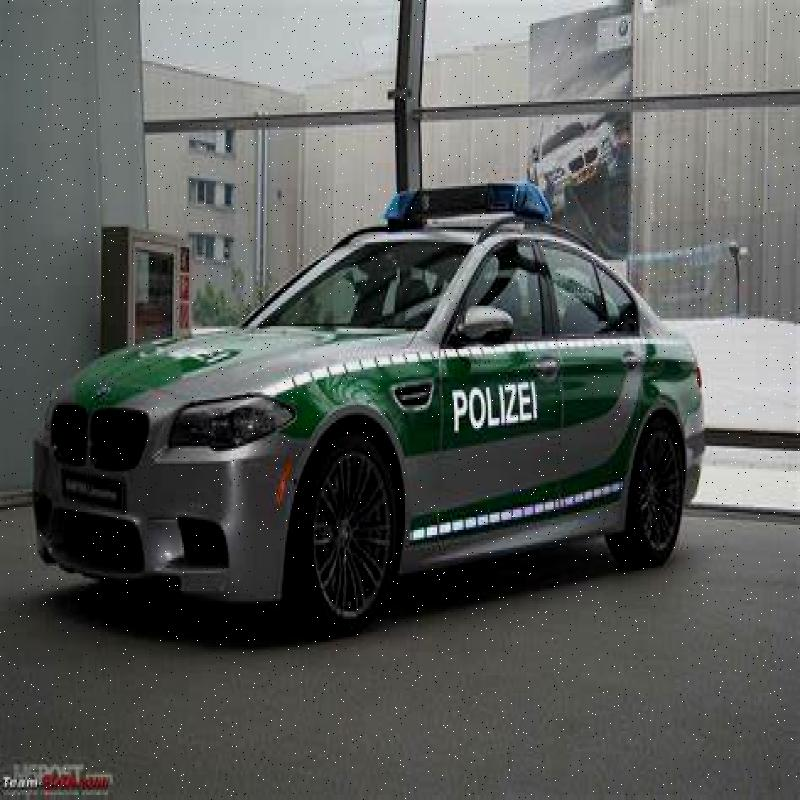AmbulanceSiren: (380, 169, 552, 235)
